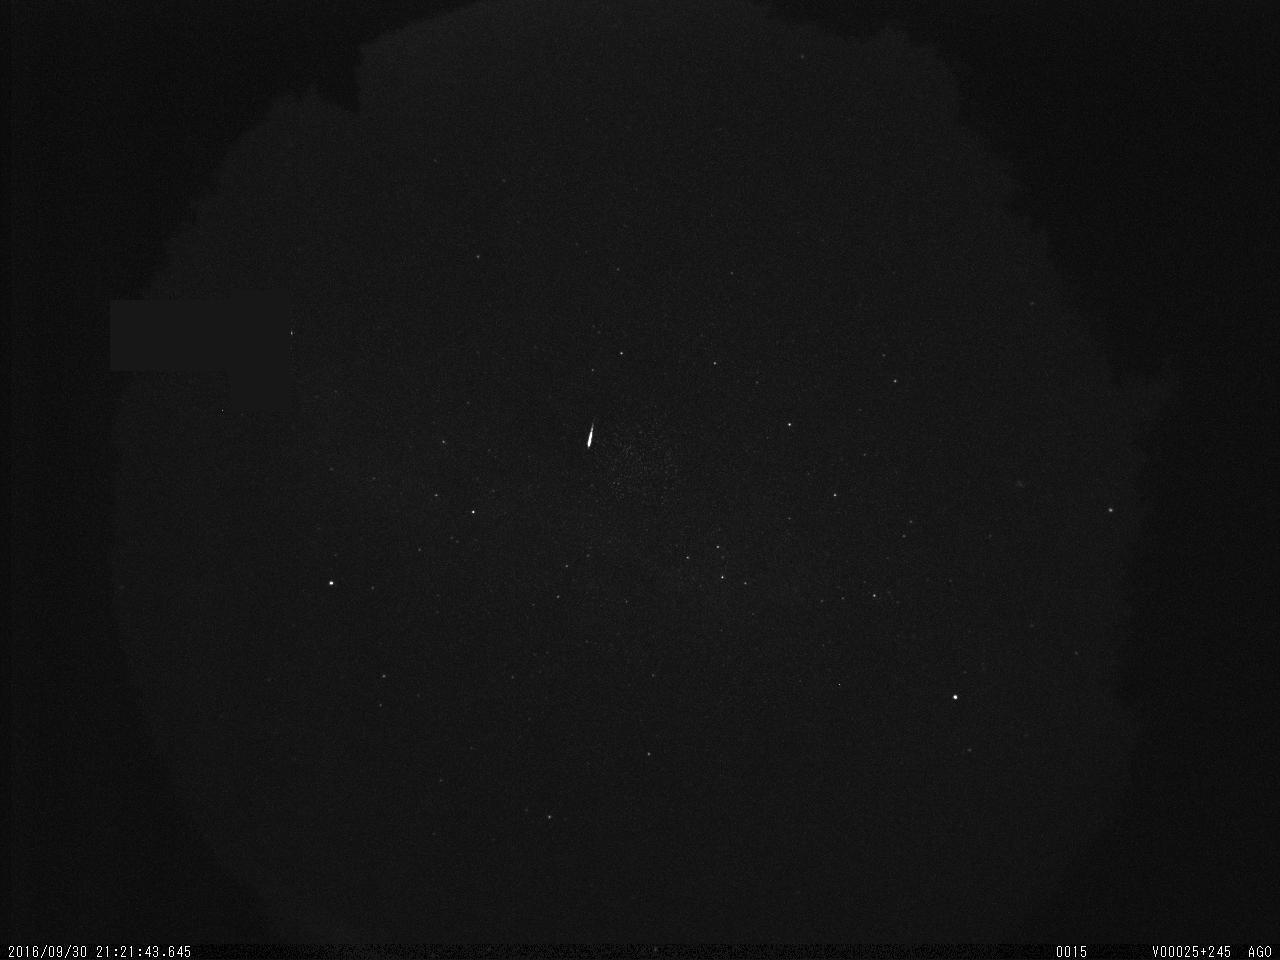meteor: (566, 410, 611, 464)
